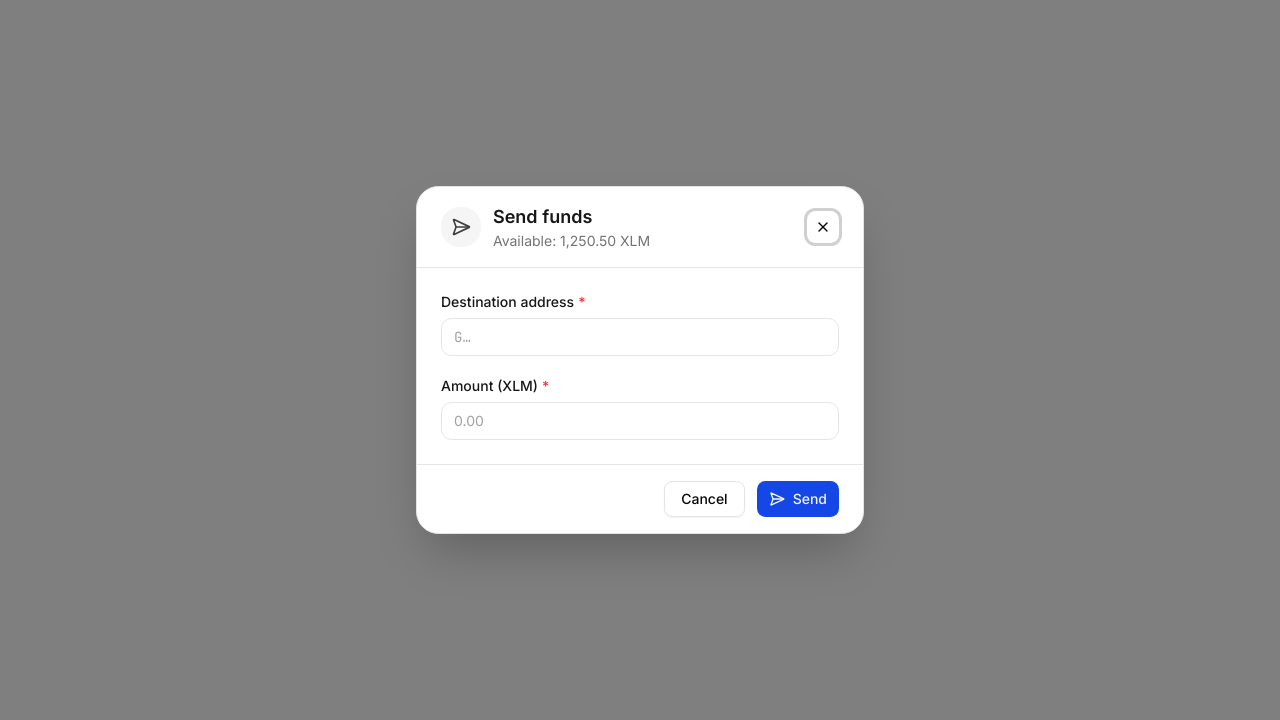
SendWalletModal › destination address validation › shows required error when destination is empty on submit
Click the button with aria-label "submit send transaction". click: [798, 499]
box: [757, 481, 839, 517]
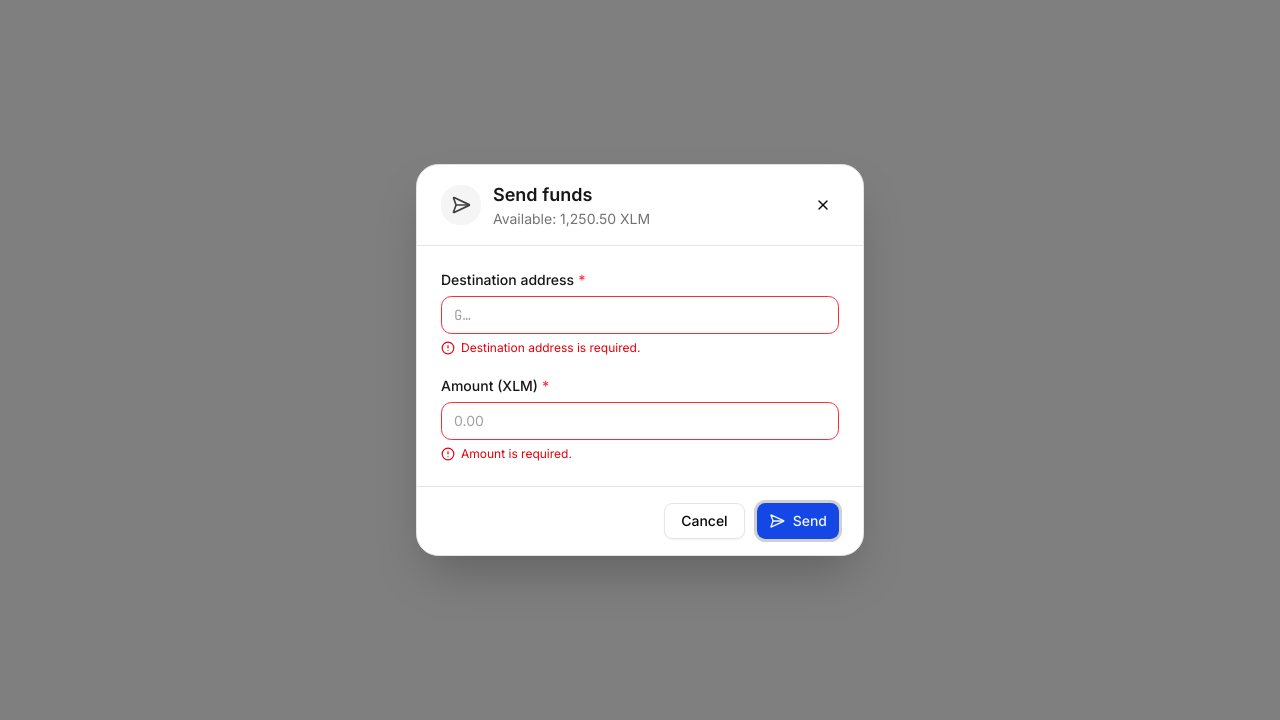
Check: the text "Destination address is required." is shown, box [441, 340, 640, 355]
